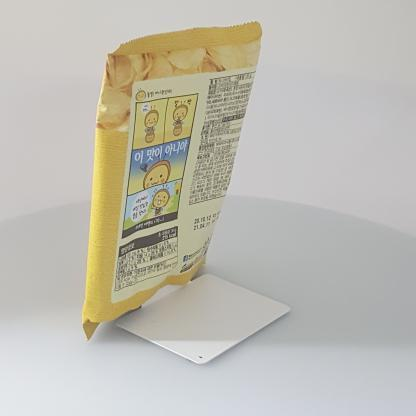Plastic Packaging: (74, 13, 268, 351)
